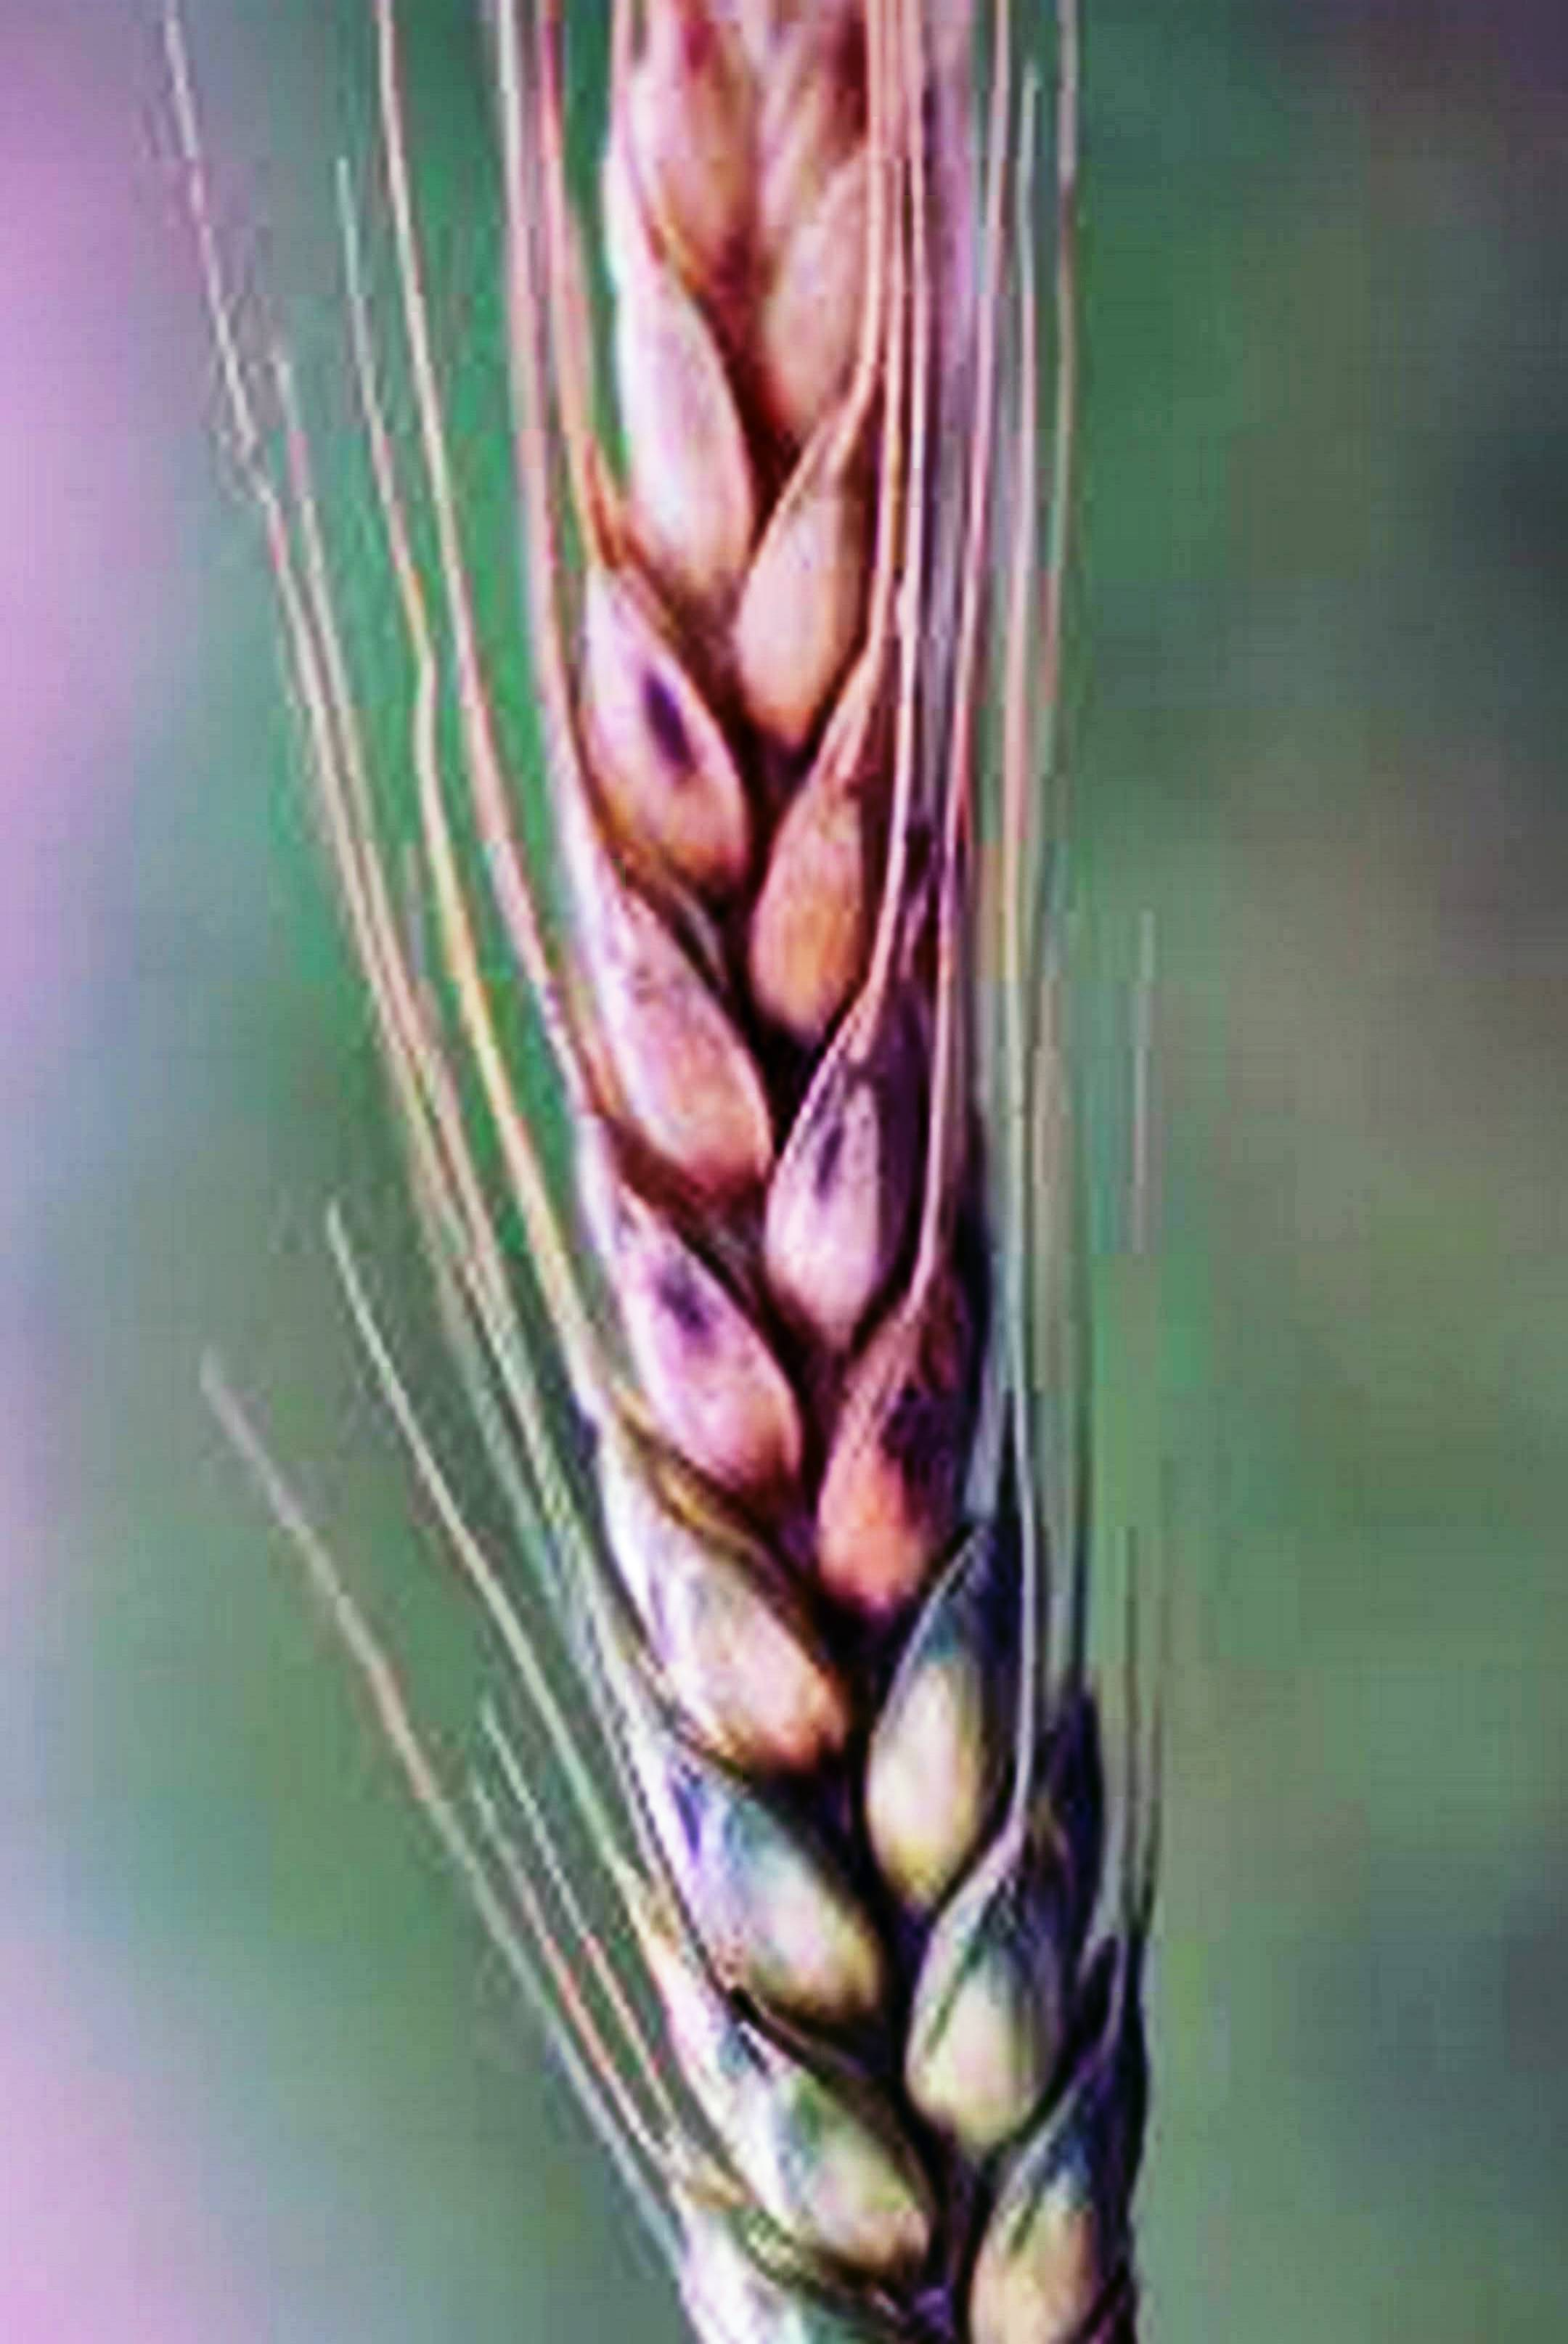Wheat scab: (380, 114, 1237, 2300)
